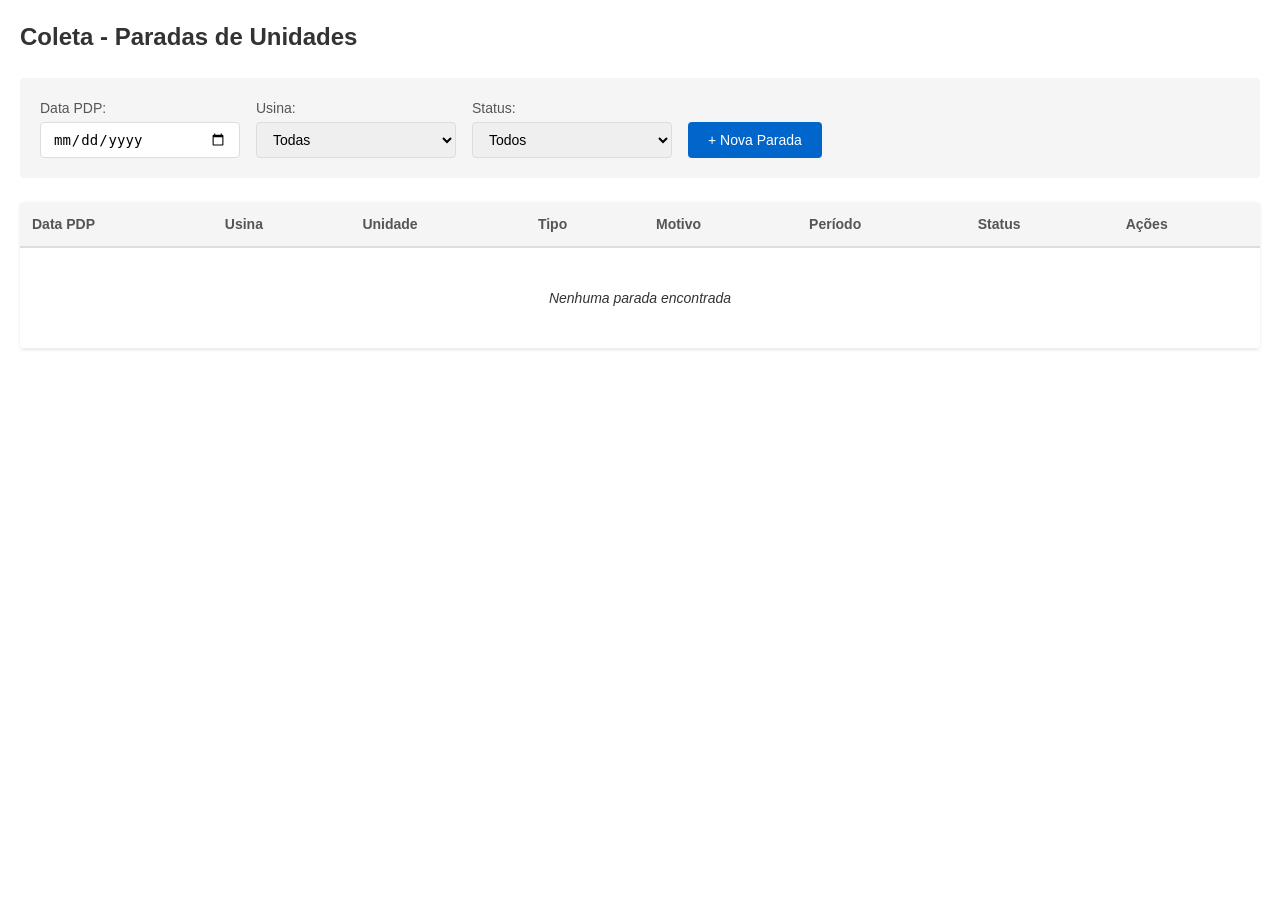
it: UnitOutage Component › Diálogo de formulário › deve abrir diálogo ao clicar em nova parada
Click the button with test id "btn-nova-parada" at (755,140), box [688,122,822,158]
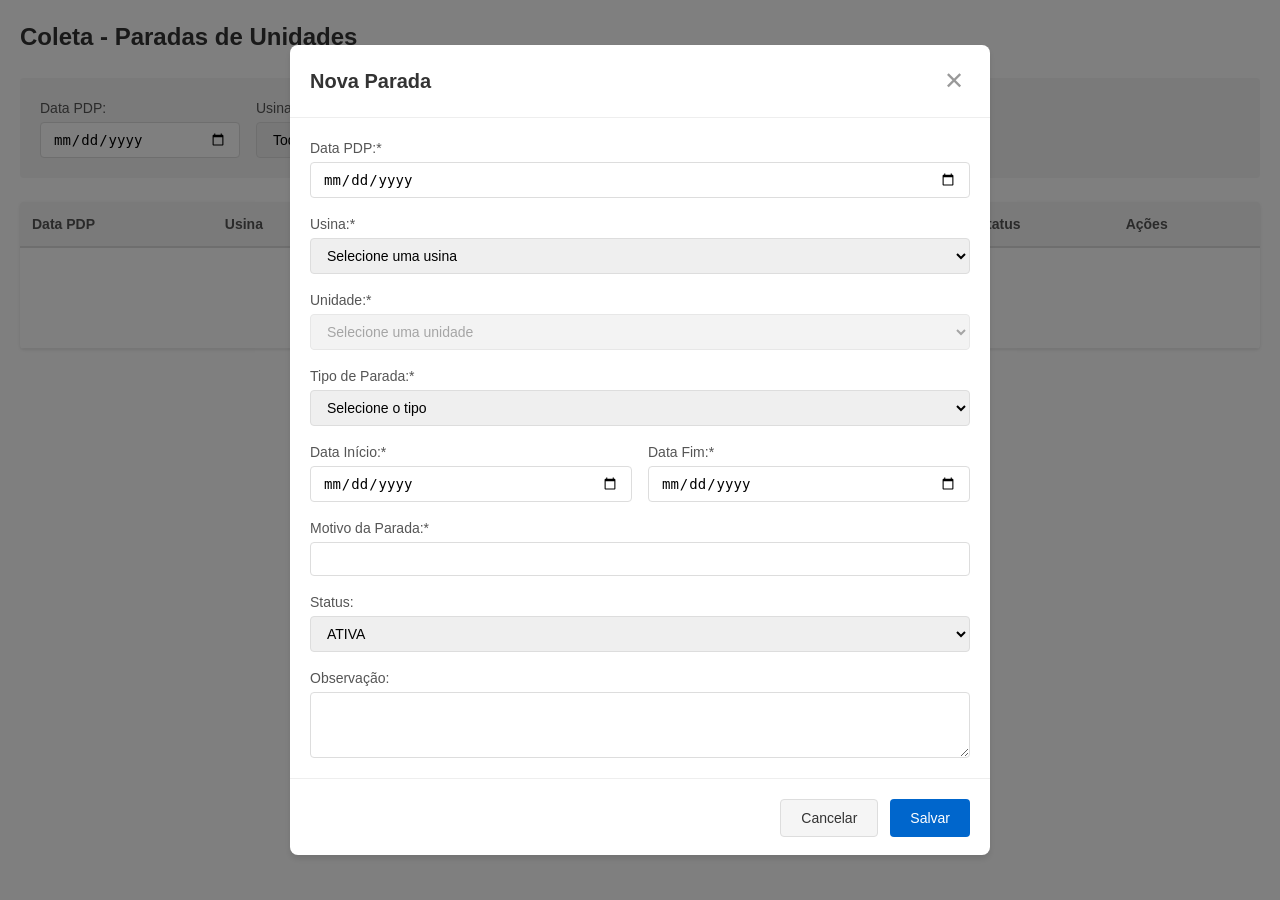
Result: the element with test id "dialog-form" is shown
Result: the heading "Nova Parada" is shown at [310,67,431,95]
